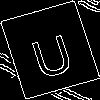U: (25, 25, 77, 80)
